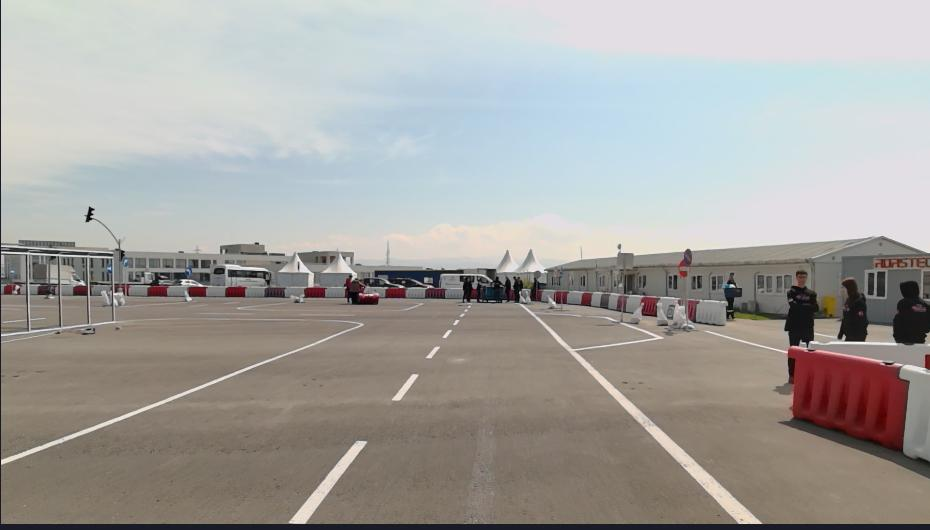nesne: (0, 297, 763, 524), (1, 297, 474, 529), (286, 300, 761, 528), (521, 302, 760, 523), (2, 319, 363, 464), (785, 346, 901, 444), (0, 245, 119, 333), (116, 296, 396, 323), (287, 438, 368, 525), (538, 310, 663, 354), (537, 313, 663, 351), (538, 287, 681, 318), (892, 360, 924, 462), (808, 340, 929, 364), (889, 267, 926, 342), (785, 262, 817, 348), (705, 330, 789, 355), (837, 278, 869, 336), (214, 262, 272, 286), (192, 286, 342, 295), (93, 214, 126, 249), (723, 273, 743, 315), (392, 370, 420, 399), (124, 284, 184, 296), (439, 273, 494, 286), (54, 248, 62, 324), (697, 301, 725, 322), (109, 252, 117, 323), (25, 249, 32, 328), (657, 294, 677, 318), (356, 281, 378, 302), (385, 276, 431, 286), (668, 302, 687, 326), (85, 251, 91, 324), (640, 293, 658, 317), (624, 292, 643, 314), (349, 277, 364, 304), (619, 267, 626, 320), (360, 278, 402, 286), (492, 272, 503, 302), (655, 299, 669, 322), (686, 298, 698, 324), (475, 279, 489, 301), (565, 289, 582, 306), (616, 251, 633, 268), (322, 285, 346, 297), (512, 274, 522, 302), (128, 284, 150, 296), (203, 286, 226, 297), (302, 286, 323, 298), (605, 292, 618, 311), (384, 286, 405, 297), (404, 287, 425, 298), (424, 286, 445, 297), (224, 286, 247, 296), (262, 287, 285, 297), (552, 289, 568, 303), (590, 291, 604, 307), (345, 273, 352, 304), (284, 286, 305, 296), (540, 289, 555, 303), (37, 284, 56, 295), (91, 282, 110, 293), (188, 285, 207, 296), (462, 276, 470, 302), (244, 286, 264, 296), (443, 286, 463, 296), (583, 291, 596, 306), (677, 260, 690, 274), (148, 284, 166, 294), (98, 288, 109, 304), (118, 257, 123, 292), (683, 246, 692, 264), (3, 284, 19, 294), (166, 288, 186, 296), (617, 293, 626, 310), (290, 294, 307, 303), (372, 286, 385, 297), (425, 346, 439, 356), (506, 274, 511, 301), (60, 286, 73, 296), (115, 290, 125, 303), (183, 264, 193, 277), (86, 206, 94, 222), (72, 285, 86, 294), (599, 292, 608, 306), (682, 276, 685, 316), (183, 290, 193, 301), (522, 290, 530, 303), (19, 281, 27, 292), (119, 248, 126, 258), (186, 277, 191, 291), (30, 283, 37, 292)
